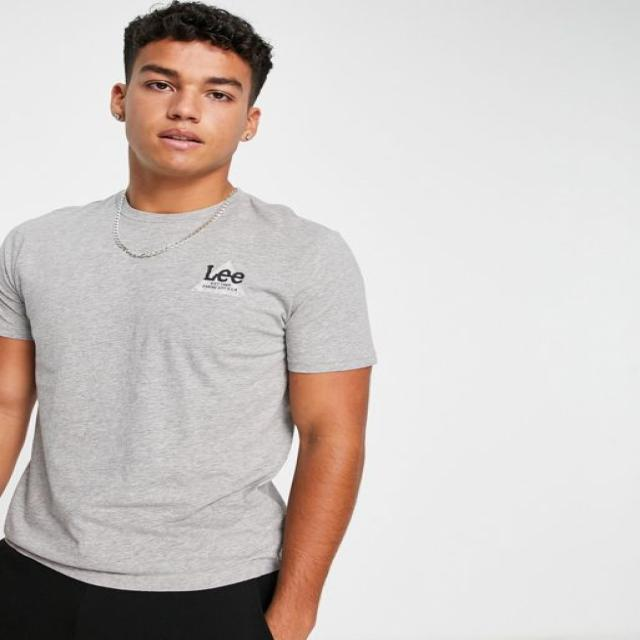tshirt: (0, 185, 378, 591)
